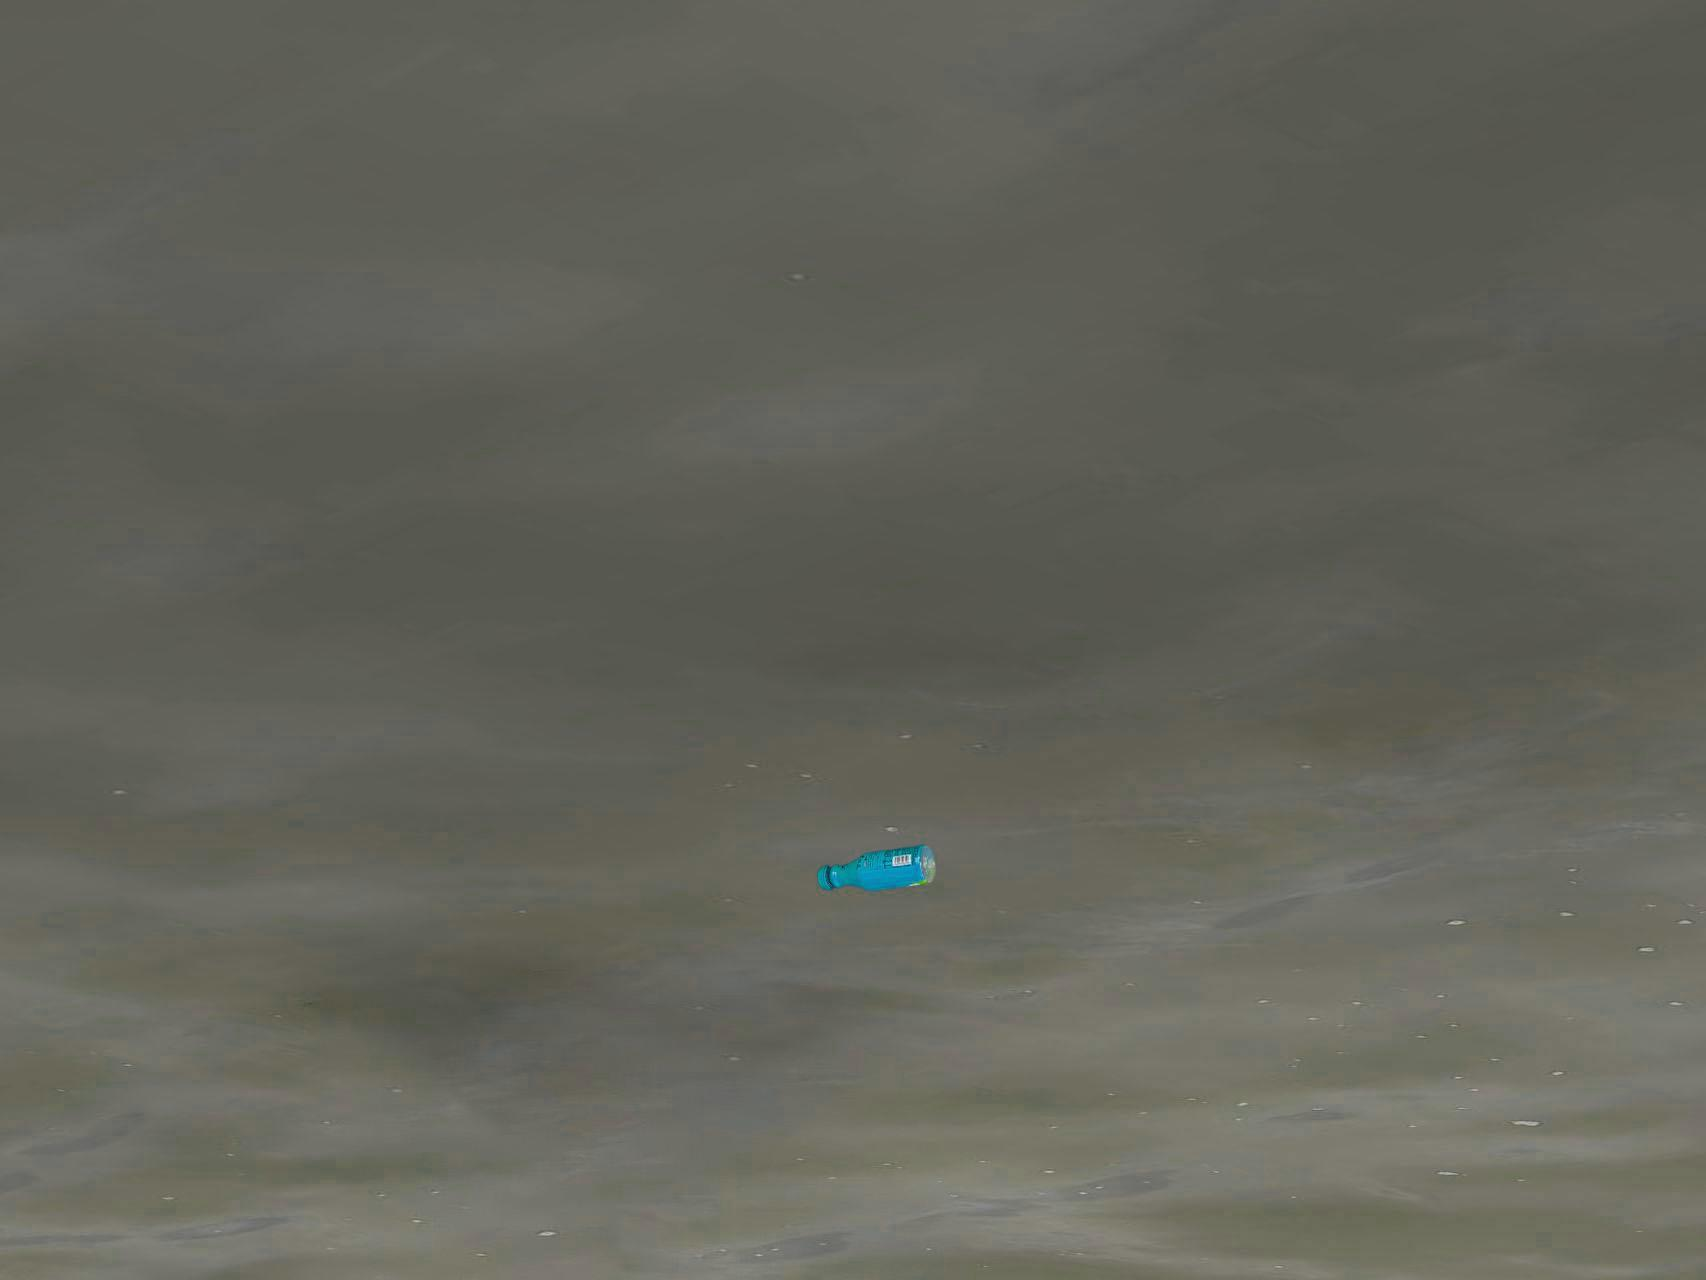Plastic: (819, 843, 937, 894)
